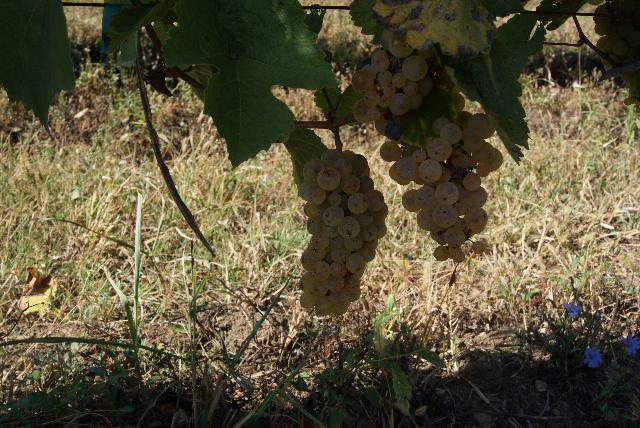grapes: (352, 30, 504, 260), (300, 149, 388, 315)
